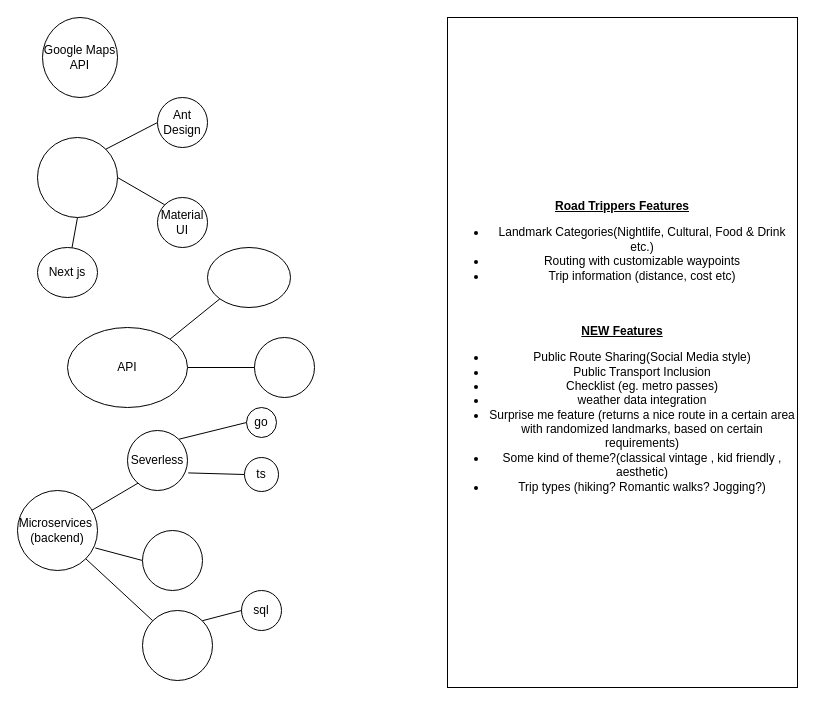
This 815x705 diagram has some shape labels left out. Each missing label, with the box of its shape:
Containers: (142, 530, 202, 590)
graph ql: (206, 246, 290, 308)
postgres: (142, 610, 212, 680)
React Frontend: (36, 136, 118, 218)
Rest api: (254, 336, 314, 398)
